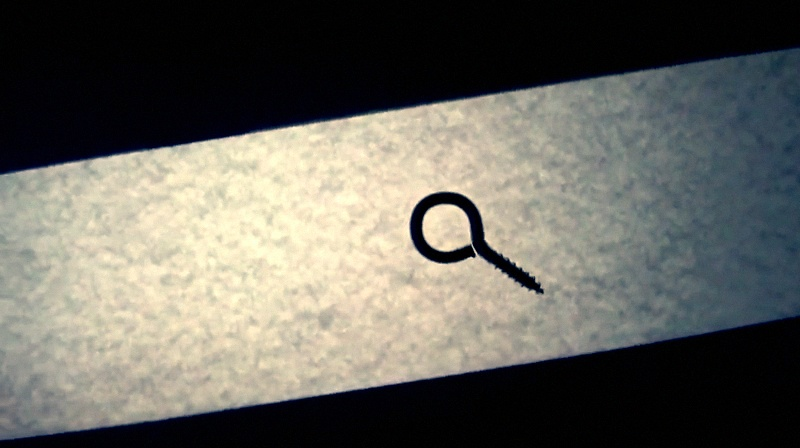O001: (406, 188, 545, 301)
